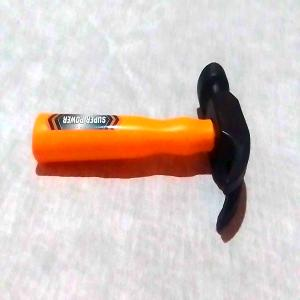martelo: (31, 61, 252, 234)
